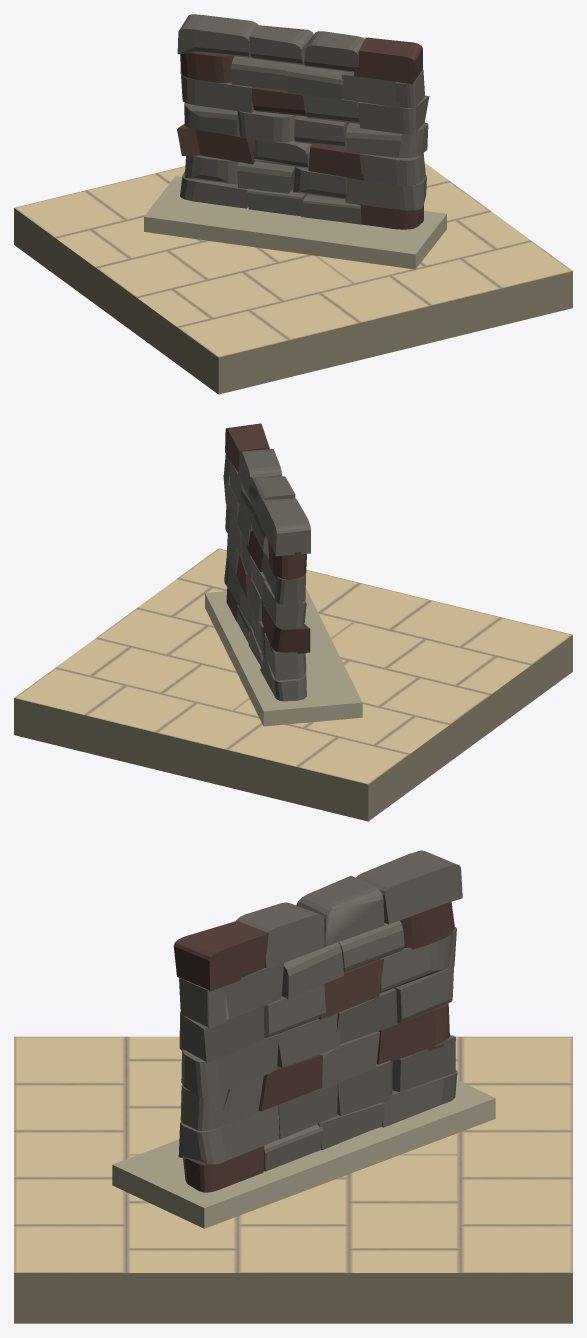
Rendered from tile0080.gltf.
3 renders of one model, top to bottom at view 1: azimuth 30°, elevation 25°; view 2: azimuth 150°, elevation 25°; view 3: azimuth 270°, elevation 25°, orthographic. The views are drawn at different scales.
Parts seen in each view (by area): view 1: Cube.030, Cube, Cube.002; view 2: Cube.030, Cube, Cube.002; view 3: Cube.030, Cube, Cube.002.
Part boxes in pixels (left/top/right/bottom): Cube.030: left=14, top=163, right=572, bottom=394; Cube: left=177, top=14, right=429, bottom=229; Cube.002: left=144, top=176, right=446, bottom=269; Cube.030: left=14, top=548, right=572, bottom=821; Cube: left=223, top=423, right=310, bottom=701; Cube.002: left=205, top=588, right=362, bottom=726; Cube.030: left=14, top=1036, right=572, bottom=1323; Cube: left=173, top=850, right=462, bottom=1192; Cube.002: left=112, top=1080, right=495, bottom=1228.
Size of the model in its own units: 2 by 1.25 by 2.
5 materials, 1 textured.
